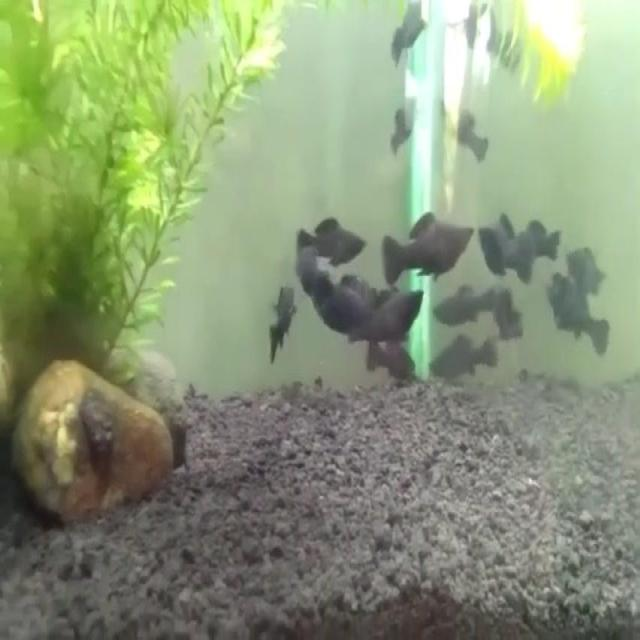PlatyFish: (378, 206, 481, 290), (291, 208, 372, 272)
